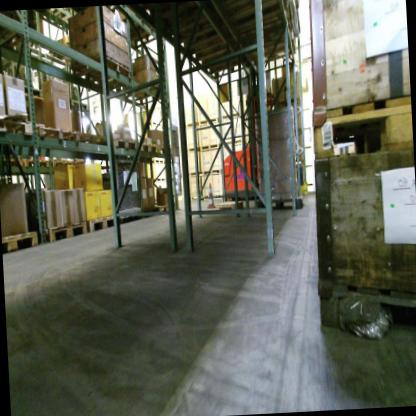forklift: (212, 86, 288, 210)
pallet: (318, 277, 416, 342), (312, 105, 412, 157), (70, 53, 132, 91), (37, 119, 80, 147), (1, 229, 38, 256), (0, 112, 32, 142), (45, 222, 87, 240), (257, 196, 303, 212), (86, 214, 115, 230), (218, 196, 243, 212), (114, 136, 138, 151), (138, 138, 157, 154), (154, 203, 169, 213), (157, 145, 169, 156)
